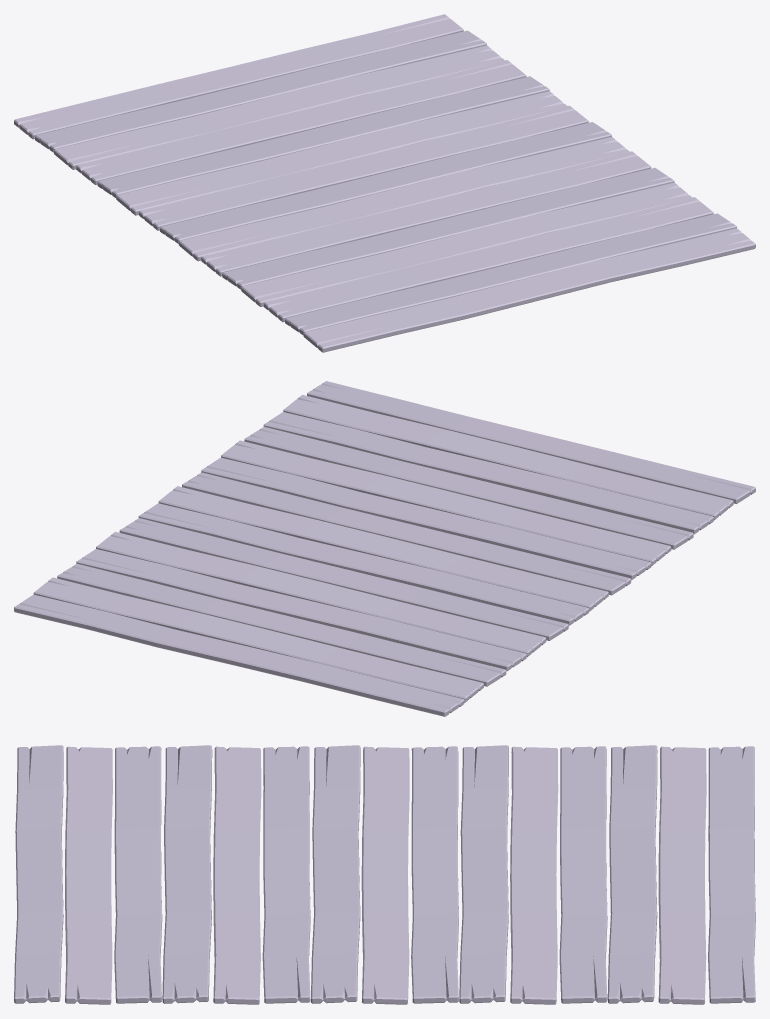
Rendered from fishingHutPlanking.glb.
The picture shows the model from 3 angles, top to bottom: view 1: azimuth 30°, elevation 25°; view 2: azimuth 150°, elevation 25°; view 3: azimuth 270°, elevation 25°; orthographic projection. The views are drawn at different scales.
Parts seen in each view (by area): view 1: planking.pier.final; view 2: planking.pier.final; view 3: planking.pier.final.
Part boxes in pixels (x1=…): planking.pier.final: x1=14, y1=14, x2=755, y2=352; planking.pier.final: x1=14, y1=381, x2=755, y2=716; planking.pier.final: x1=14, y1=745, x2=755, y2=1004.
Size of the model in its own units: 4.02 by 0.0724 by 5.
